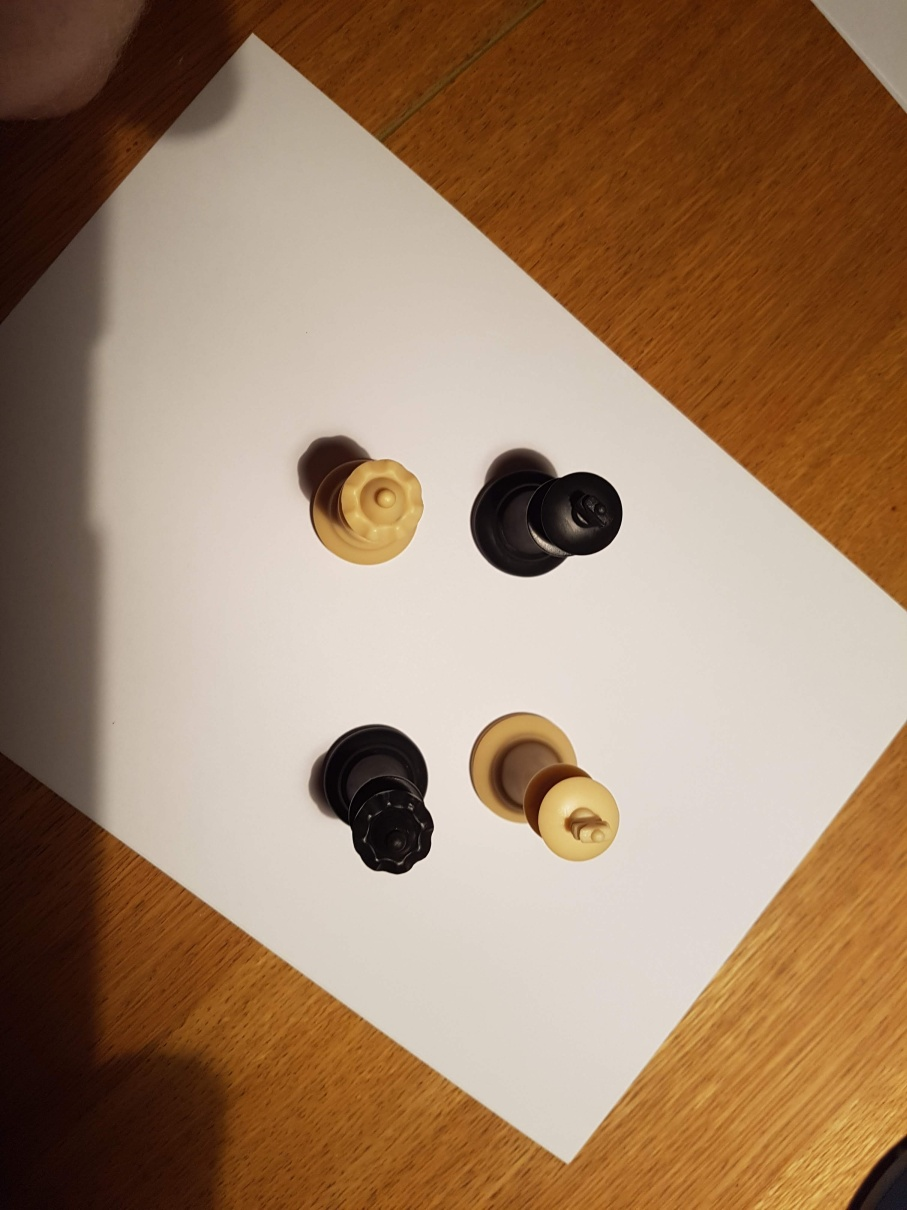chess_king: (468, 710, 620, 861), (473, 471, 623, 578)
chess_queen: (322, 725, 437, 875), (310, 455, 421, 567)
